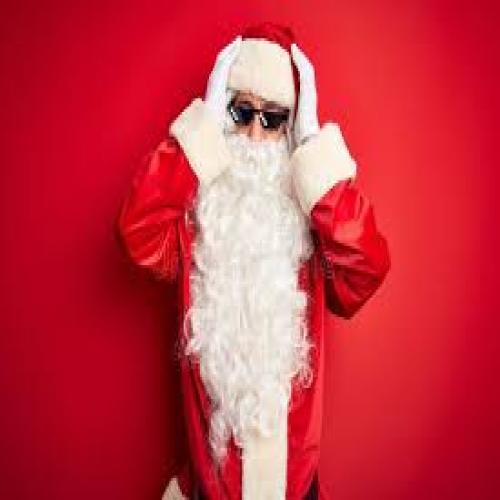Santa: (114, 22, 390, 497)
